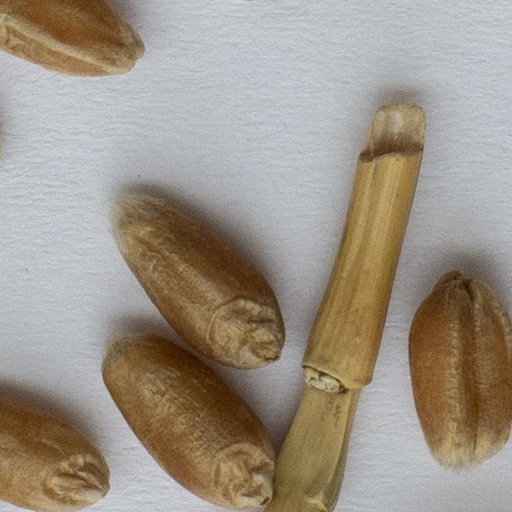Peel-poly: (264, 100, 425, 511)
